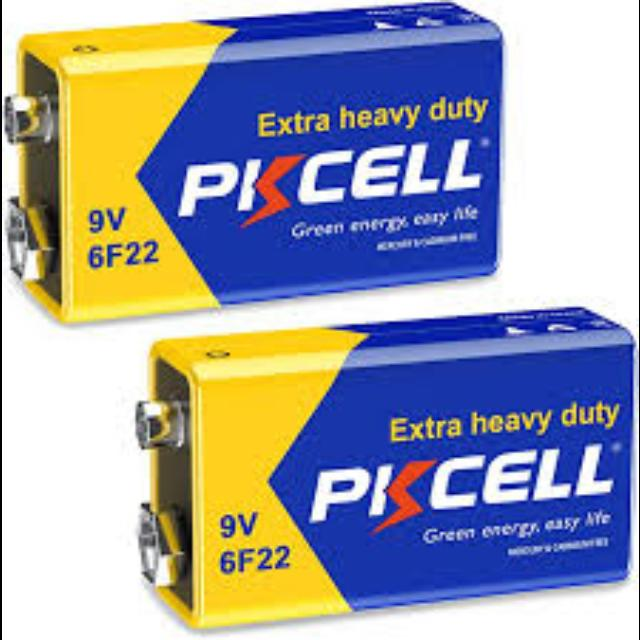Battery: (1, 0, 507, 327), (138, 307, 638, 634)
